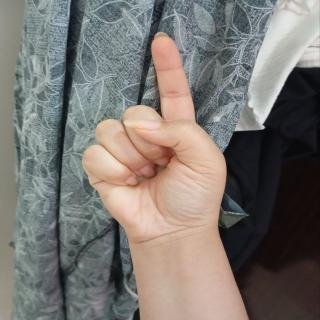BAA: (77, 28, 234, 261)
